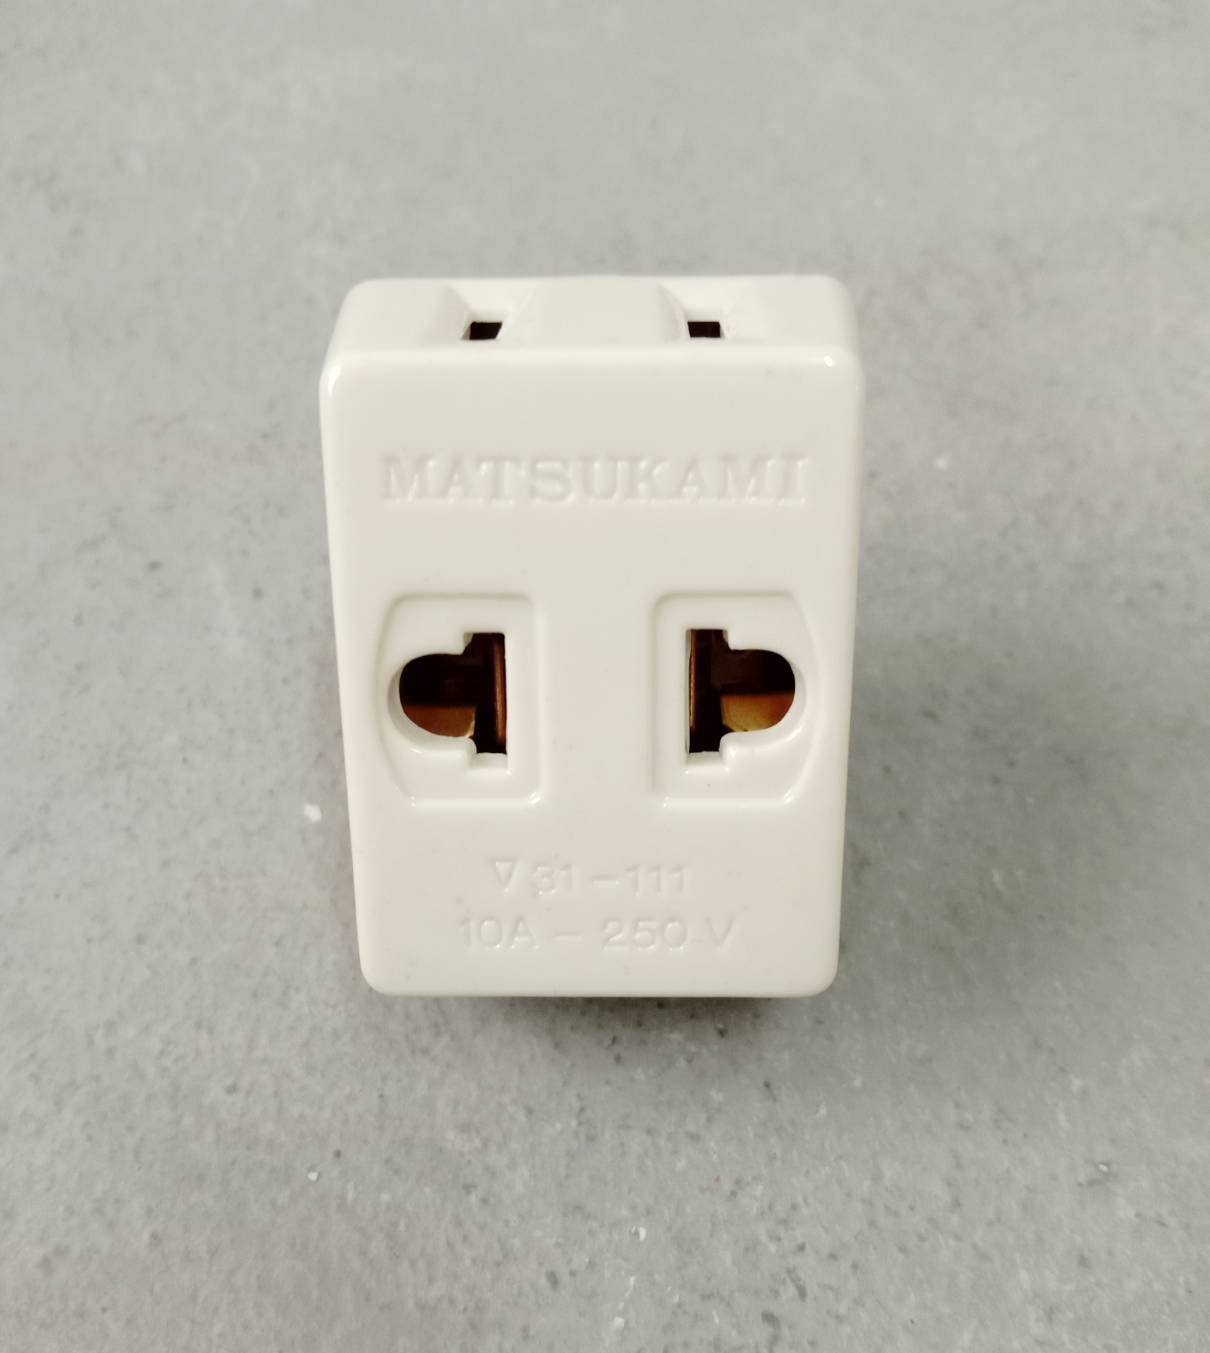Three_eye_plug: (302, 252, 881, 1029)
